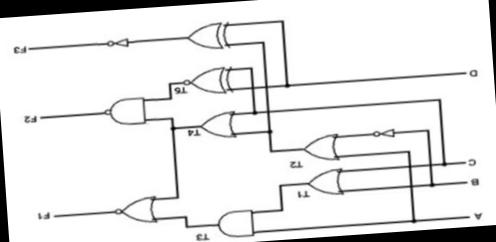and: (209, 198, 264, 242)
nand: (96, 91, 154, 133)
nor: (107, 183, 158, 235)
not: (101, 34, 130, 50), (368, 125, 396, 141)
or: (196, 98, 244, 148), (302, 164, 352, 202), (298, 127, 348, 164)
xnor: (180, 58, 236, 99)
xor: (184, 17, 234, 55)
